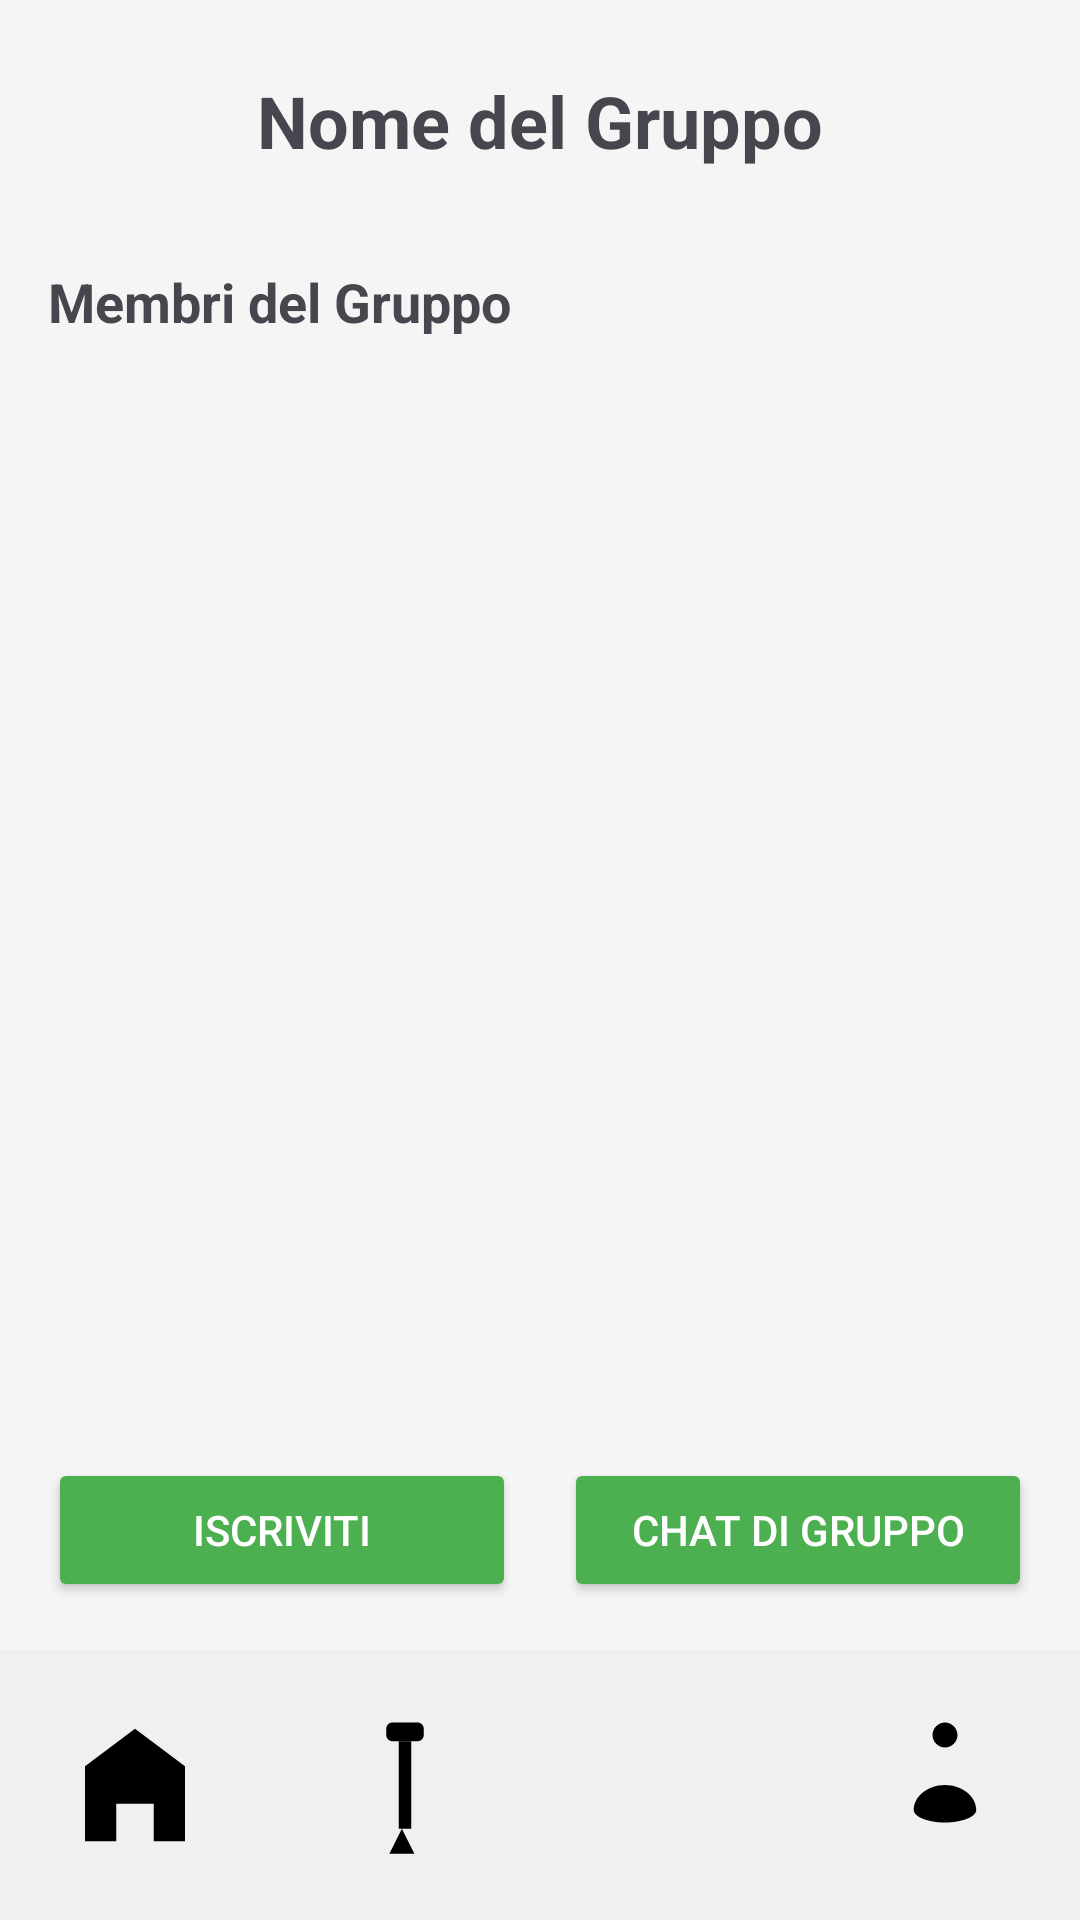

Screen size 1080px x 1920px. Icon name, then its box in pixels as bbox=(x1, y1, x2, y2):
Home: bbox=(85, 1729, 185, 1842)
Profilo: bbox=(913, 1722, 977, 1823)
tool: bbox=(386, 1722, 424, 1854)
